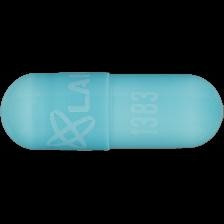61919-829: (0, 0, 224, 224)
